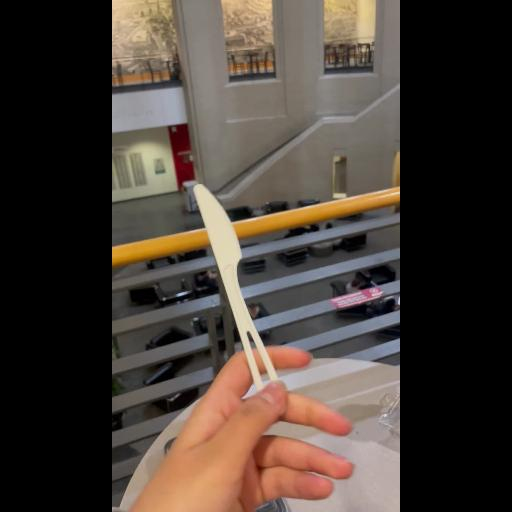utensil: (175, 176, 329, 456)
